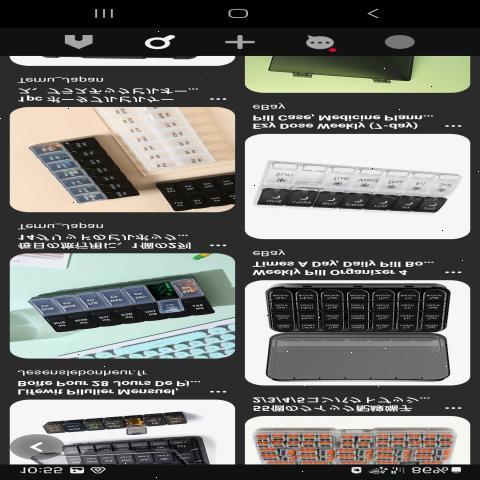PillBox: (15, 265, 230, 343), (258, 154, 460, 215), (24, 131, 152, 211)
